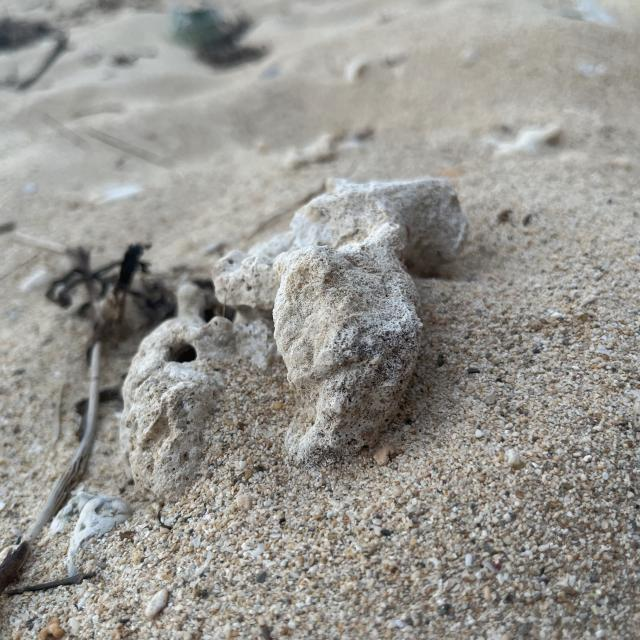rock: (213, 174, 482, 464), (113, 305, 266, 531)
